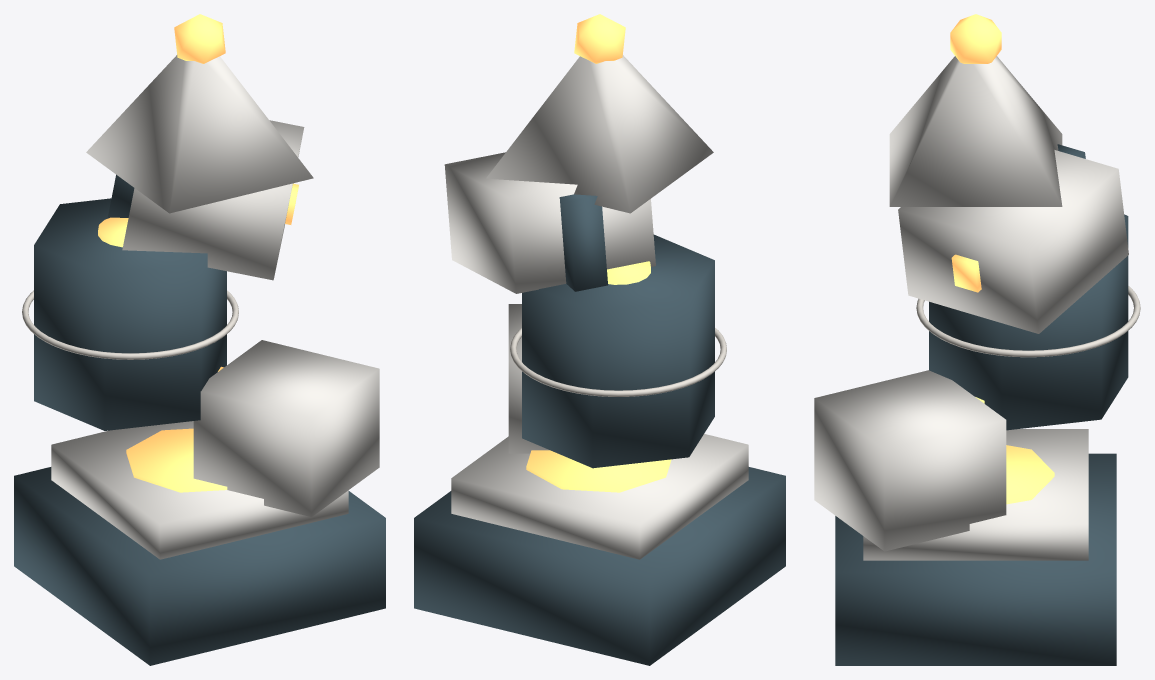
Rendered from learning_monolith.glb.
The picture shows the model from 3 angles, left to right: view 1: azimuth 30°, elevation 25°; view 2: azimuth 150°, elevation 25°; view 3: azimuth 270°, elevation 25°; orthographic projection. The views are drawn at different scales.
Parts seen in each view (by area): view 1: Block_01_Elan, Block_03_Vector, Block_02_Apex, Block_05_Pulse, Block_01_Tier, Block_04_Morpho, Block_01_Core, Block_03_Ring, Block_05_Gem, Block_04_SlateCap, Block_03_Spine; view 2: Block_01_Elan, Block_03_Vector, Block_05_Pulse, Block_01_Tier, Block_04_Morpho, Block_04_SlateCap, Block_01_Core, Block_02_Apex, Block_03_Ring, Block_05_Gem, Block_03_Spine; view 3: Block_01_Elan, Block_02_Apex, Block_04_Morpho, Block_05_Pulse, Block_03_Vector, Block_01_Tier, Block_05_Gem, Block_03_Ring, Block_01_Core, Block_04_Core.
Part boxes in pixels (box(x1,y1,x2,y2)): Block_01_Elan: box(14, 467, 385, 665); Block_03_Vector: box(34, 198, 226, 430); Block_02_Apex: box(193, 340, 379, 516); Block_05_Pulse: box(86, 55, 313, 213); Block_01_Tier: box(51, 421, 348, 559); Block_04_Morpho: box(122, 120, 304, 280); Block_01_Core: box(126, 428, 227, 492); Block_03_Ring: box(22, 290, 238, 359); Block_05_Gem: box(174, 14, 225, 63); Block_04_SlateCap: box(107, 174, 134, 218); Block_03_Spine: box(98, 217, 128, 247); Block_01_Elan: box(414, 467, 785, 665); Block_03_Vector: box(522, 234, 714, 468); Block_05_Pulse: box(486, 55, 713, 213); Block_01_Tier: box(451, 434, 748, 559); Block_04_Morpho: box(444, 152, 655, 293); Block_04_SlateCap: box(559, 194, 607, 291); Block_01_Core: box(526, 450, 671, 492); Block_02_Apex: box(508, 304, 549, 453); Block_03_Ring: box(510, 328, 726, 396); Block_05_Gem: box(574, 14, 625, 63); Block_03_Spine: box(607, 261, 650, 284); Block_01_Elan: box(835, 453, 1116, 665); Block_02_Apex: box(814, 370, 1006, 551); Block_04_Morpho: box(898, 150, 1128, 333); Block_05_Pulse: box(889, 56, 1062, 206); Block_03_Vector: box(929, 214, 1128, 430); Block_01_Tier: box(863, 429, 1088, 560); Block_05_Gem: box(950, 14, 1001, 63); Block_03_Ring: box(916, 286, 1140, 357); Block_01_Core: box(1006, 445, 1054, 504); Block_04_Core: box(951, 254, 981, 292).
Bounding box in the file's own units: 1.74 × 3.49 × 1.74.
